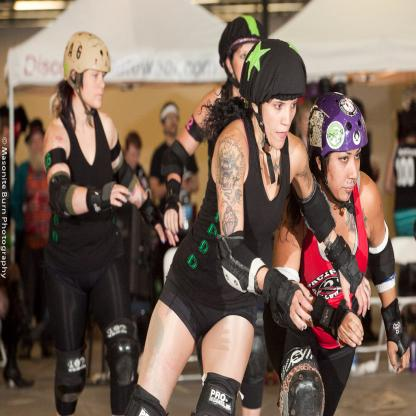Helmet: (239, 40, 306, 186), (305, 91, 369, 217), (58, 30, 111, 117), (218, 14, 268, 89)
